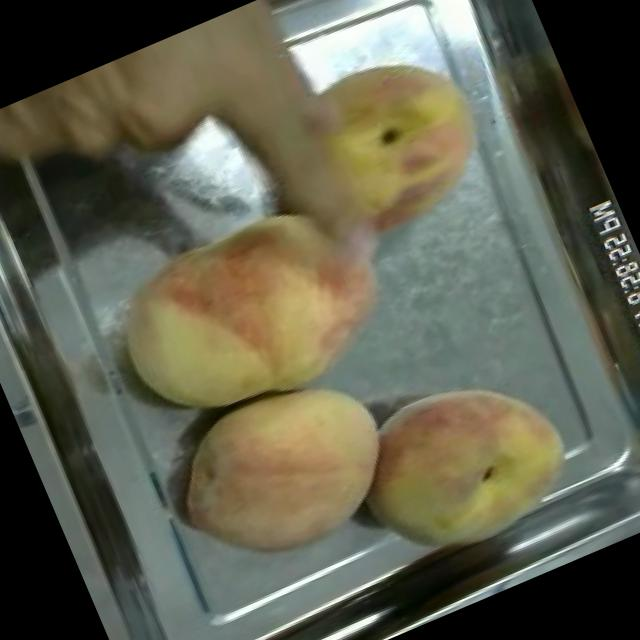Fruit: (83, 170, 410, 454), (224, 20, 520, 284), (0, 0, 330, 234), (323, 342, 601, 594), (144, 346, 418, 594)
